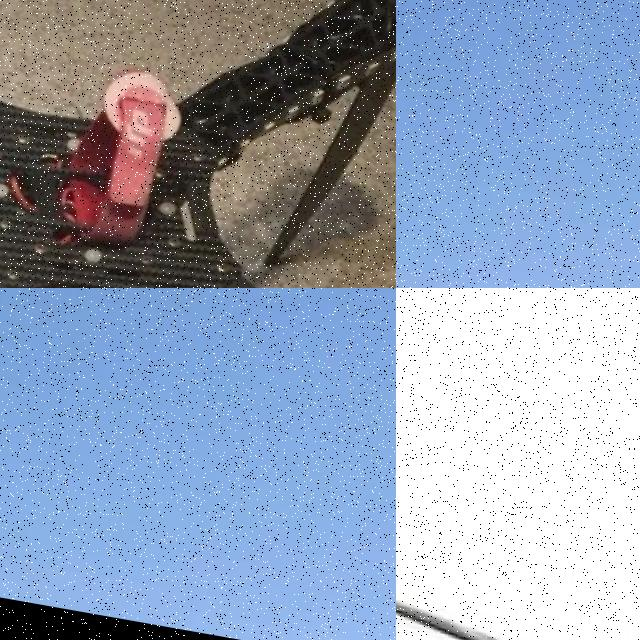drone: (0, 0, 396, 288), (396, 495, 640, 640)
